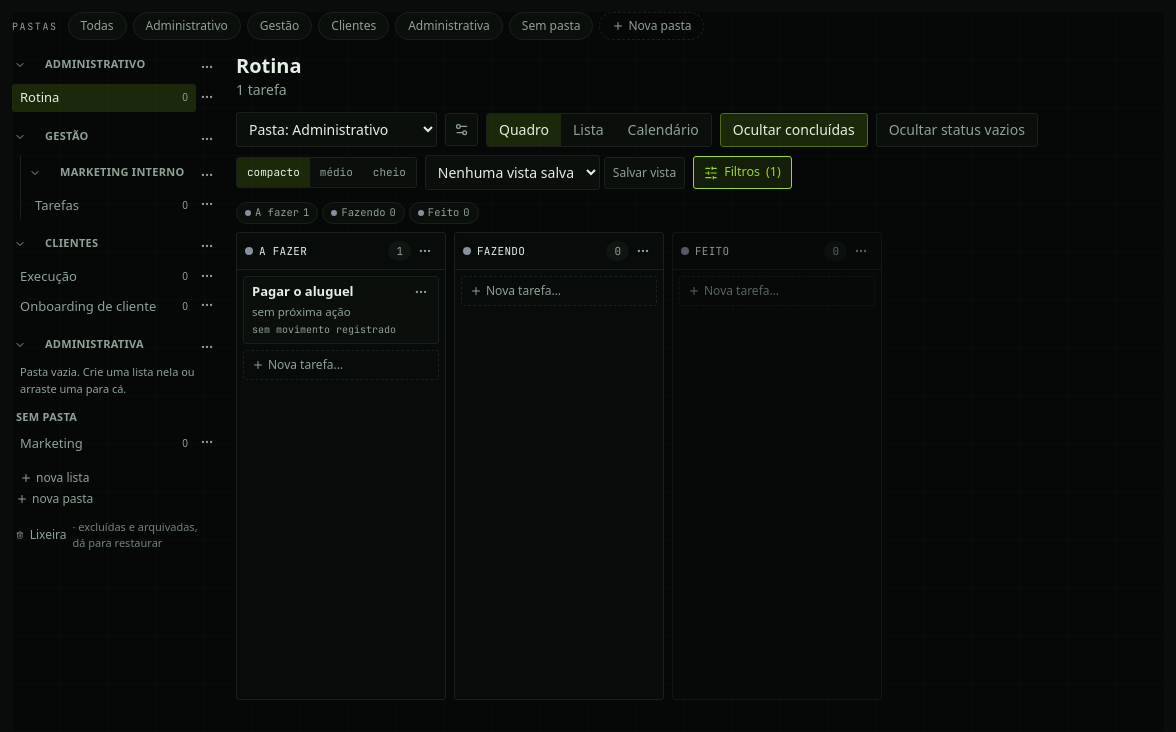
P4: ocultar status vazios › vale no quadro de uma lista
Click the button with test id "trabalho-vazios": (957, 130) [876,112,1038,146]
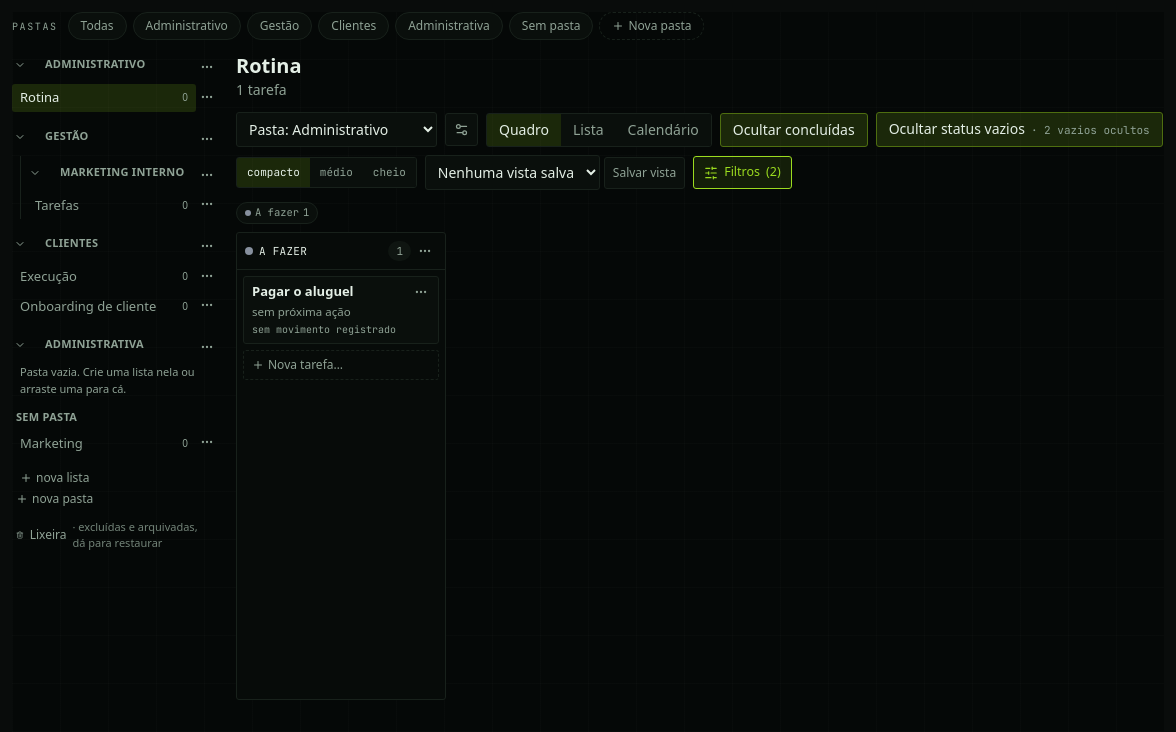
Result: the text with test id "trabalho-vazios-contagem" shows "2 vazios ocultos" at [1044,123,1150,137]
